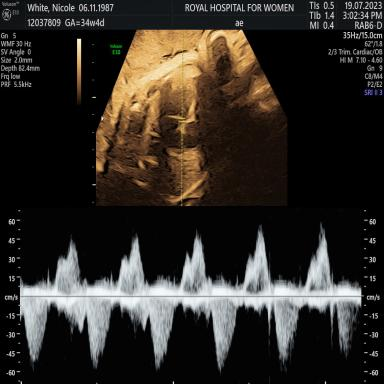Ultrasound-Waves: (24, 213, 359, 384)
